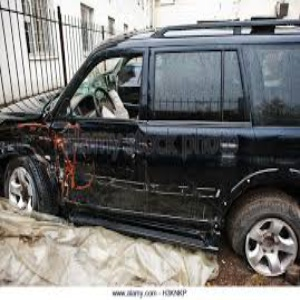door_scratch: (97, 165, 222, 207)
